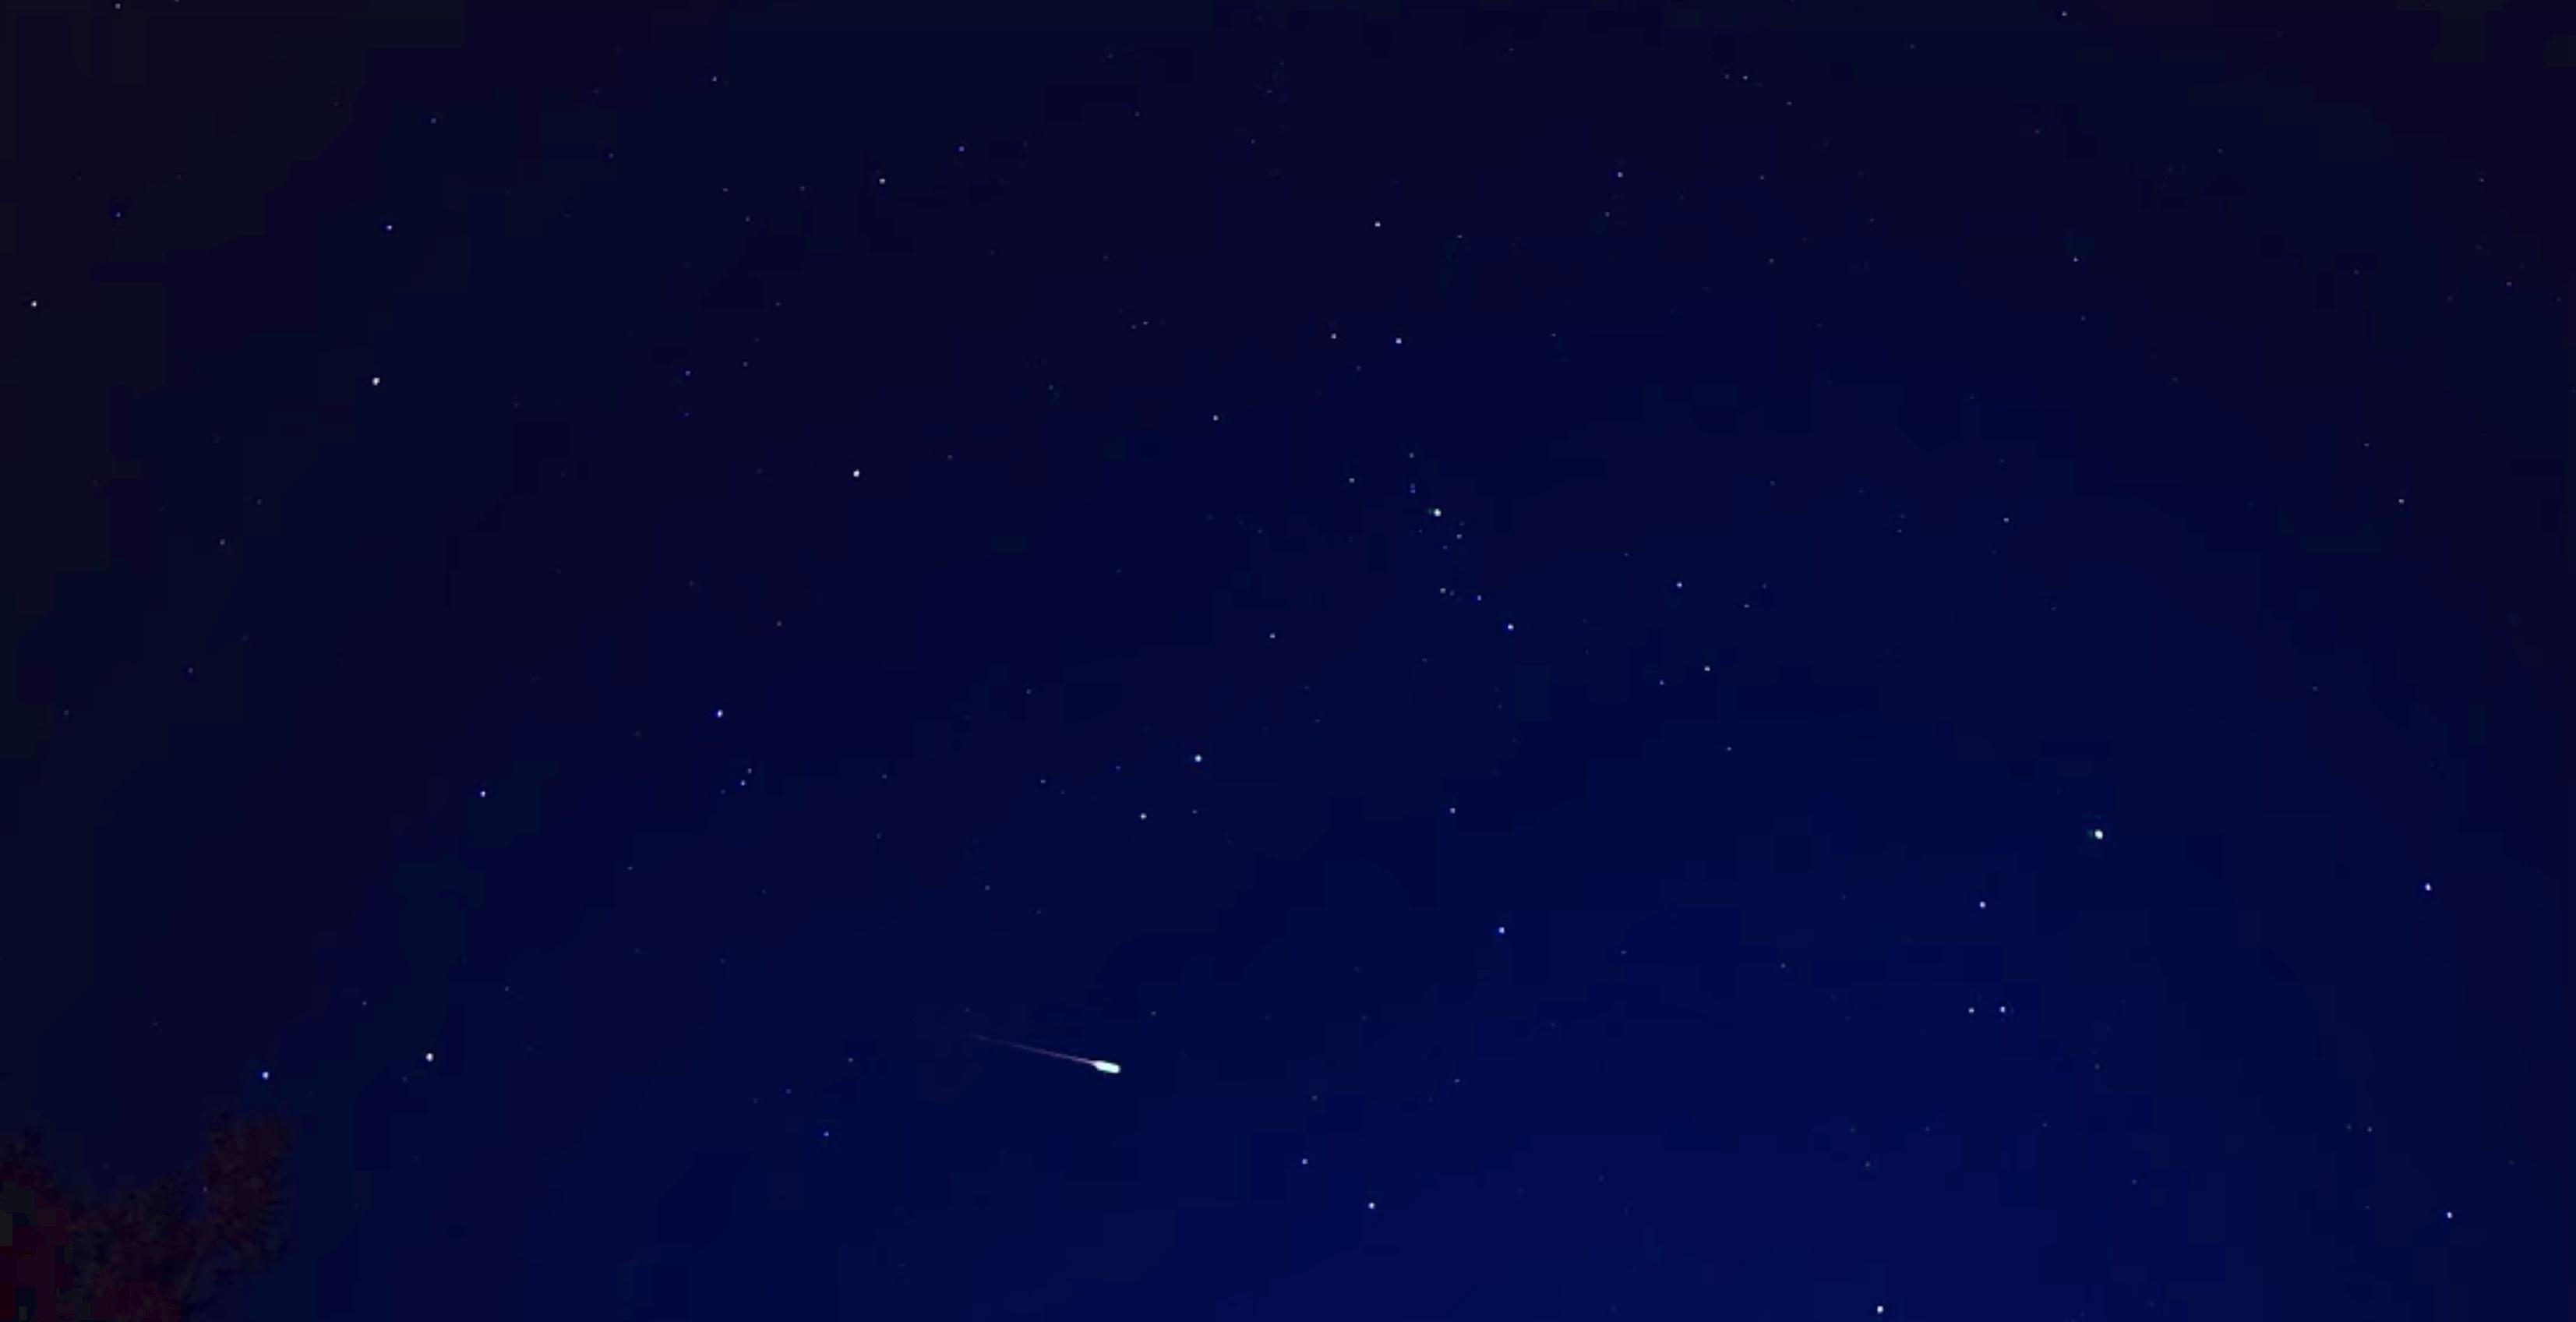meteorite: (901, 1012, 1184, 1093)
